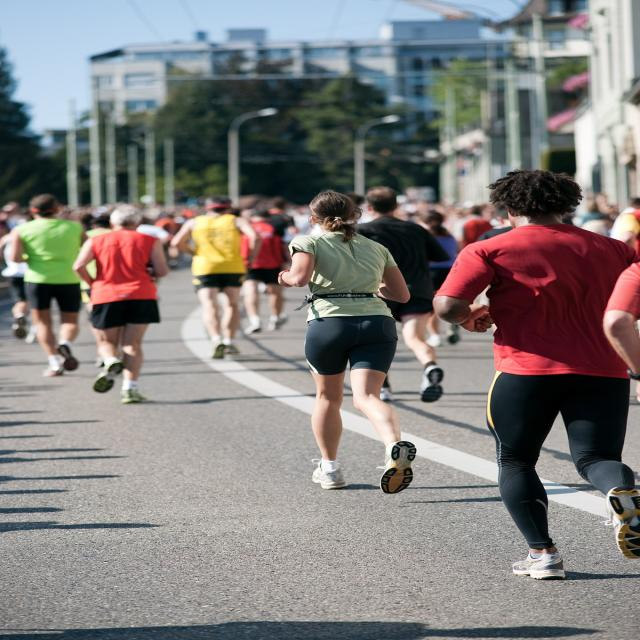body: (428, 165, 640, 585), (272, 186, 421, 497), (348, 186, 453, 403), (69, 202, 170, 406), (167, 192, 262, 362), (12, 193, 88, 378), (600, 254, 640, 404), (418, 210, 461, 349), (241, 210, 289, 334), (66, 192, 204, 231), (0, 194, 34, 346), (563, 189, 640, 255), (446, 204, 516, 241), (272, 192, 314, 249), (162, 230, 181, 275), (397, 200, 423, 222), (355, 196, 370, 220), (239, 196, 262, 209)
